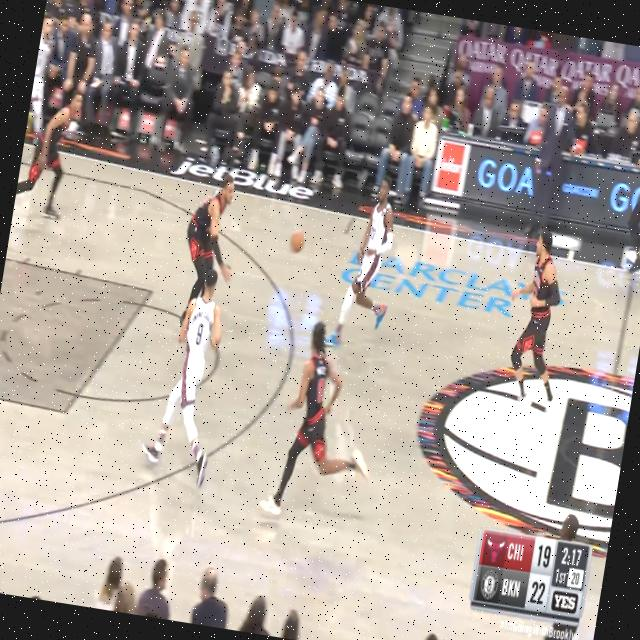no foul: (295, 136, 604, 418), (62, 132, 289, 502)
